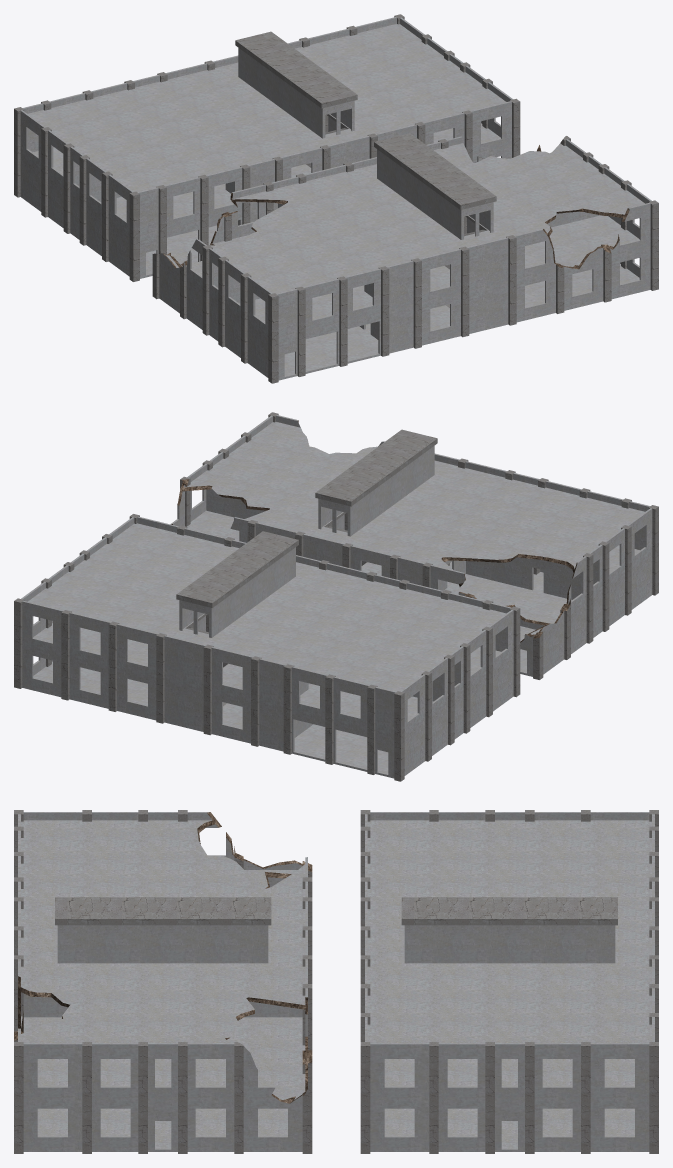
The model's file is low-poly_industrial_building.glb.
The picture shows the model from 3 angles, top to bottom: view 1: azimuth 30°, elevation 25°; view 2: azimuth 150°, elevation 25°; view 3: azimuth 270°, elevation 25°; orthographic projection. The views are drawn at different scales.
Parts seen in each view (by area): view 1: IndustryBuilding1D, IndusrtyBuilding1; view 2: IndusrtyBuilding1, IndustryBuilding1D; view 3: IndusrtyBuilding1, IndustryBuilding1D.
Part boxes in pixels (x1,y1,x2,y2): IndustryBuilding1D: (152,133,658,383); IndusrtyBuilding1: (14,14,520,281); IndusrtyBuilding1: (14,514,520,781); IndustryBuilding1D: (170,412,658,679); IndusrtyBuilding1: (360,810,658,1153); IndustryBuilding1D: (14,810,312,1153).
Bounding box in the file's own units: 40.8 × 11.75 × 47.15.
5 materials, 5 textured.
